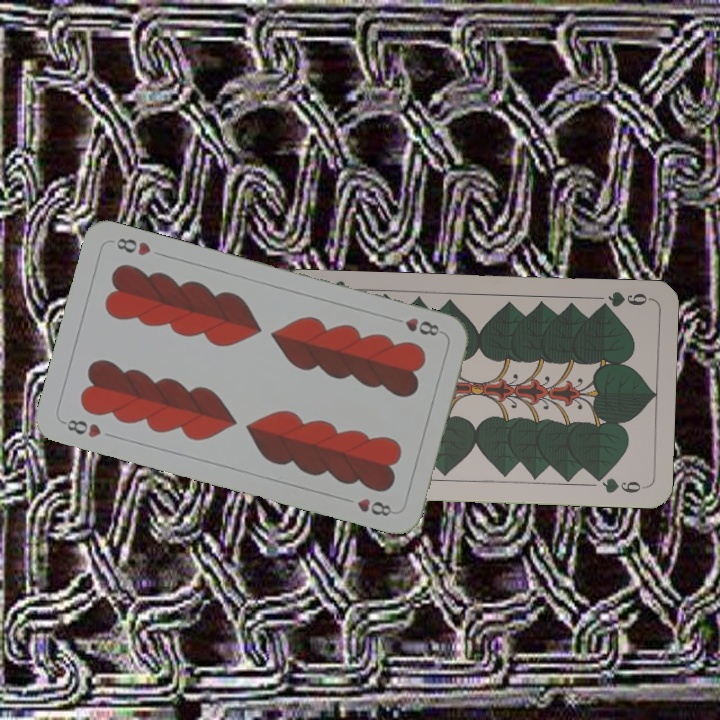G9: (593, 287, 652, 313)
H8: (58, 415, 104, 441), (401, 313, 442, 339)
